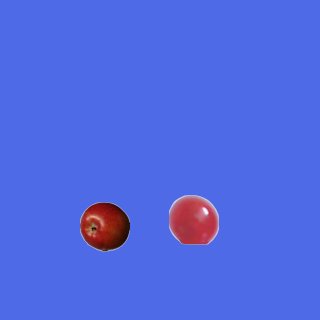Apple Braeburn: (79, 201, 129, 251)
Redcurrant: (168, 194, 218, 244)
